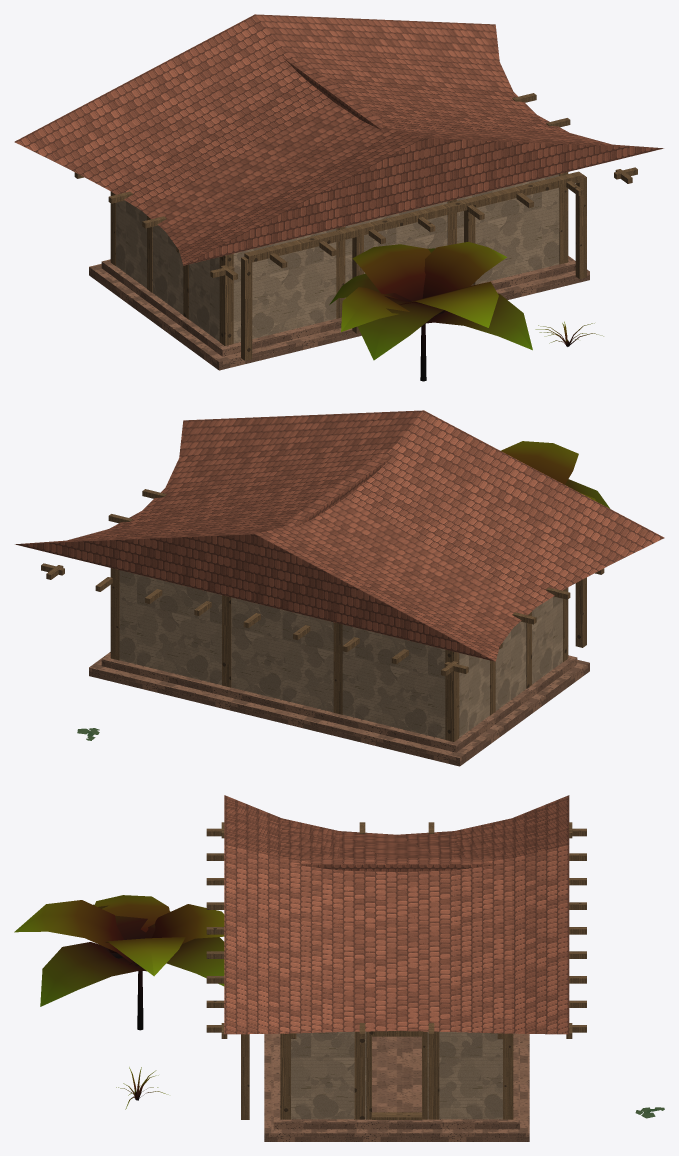
Rendered from nha_ruong_01.glb.
3 renders of one model, top to bottom at view 1: azimuth 30°, elevation 25°; view 2: azimuth 150°, elevation 25°; view 3: azimuth 270°, elevation 25°, orthographic.
Parts seen in each view (by area): view 1: nha_ruong_01, nha_ruong_01_veg_00_banana_b; view 2: nha_ruong_01, nha_ruong_01_veg_00_banana_b; view 3: nha_ruong_01, nha_ruong_01_veg_00_banana_b.
Boxes of the visible parts, left/top/right/bottom form: nha_ruong_01: left=14, top=14, right=663, bottom=370; nha_ruong_01_veg_00_banana_b: left=329, top=241, right=532, bottom=381; nha_ruong_01: left=15, top=410, right=664, bottom=766; nha_ruong_01_veg_00_banana_b: left=500, top=441, right=610, bottom=508; nha_ruong_01: left=206, top=795, right=586, bottom=1141; nha_ruong_01_veg_00_banana_b: left=14, top=895, right=224, bottom=1030.
Bounding box in the file's own units: 11.91 × 4.76 × 13.69.
7 materials, 7 textured.
